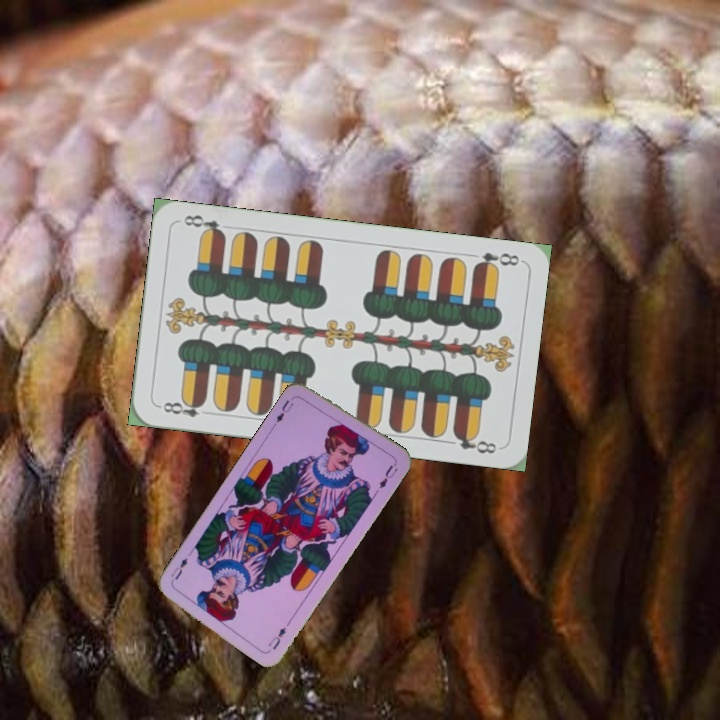E8: (155, 395, 208, 420), (469, 248, 522, 273)
EU: (272, 396, 296, 425), (264, 623, 288, 652)
